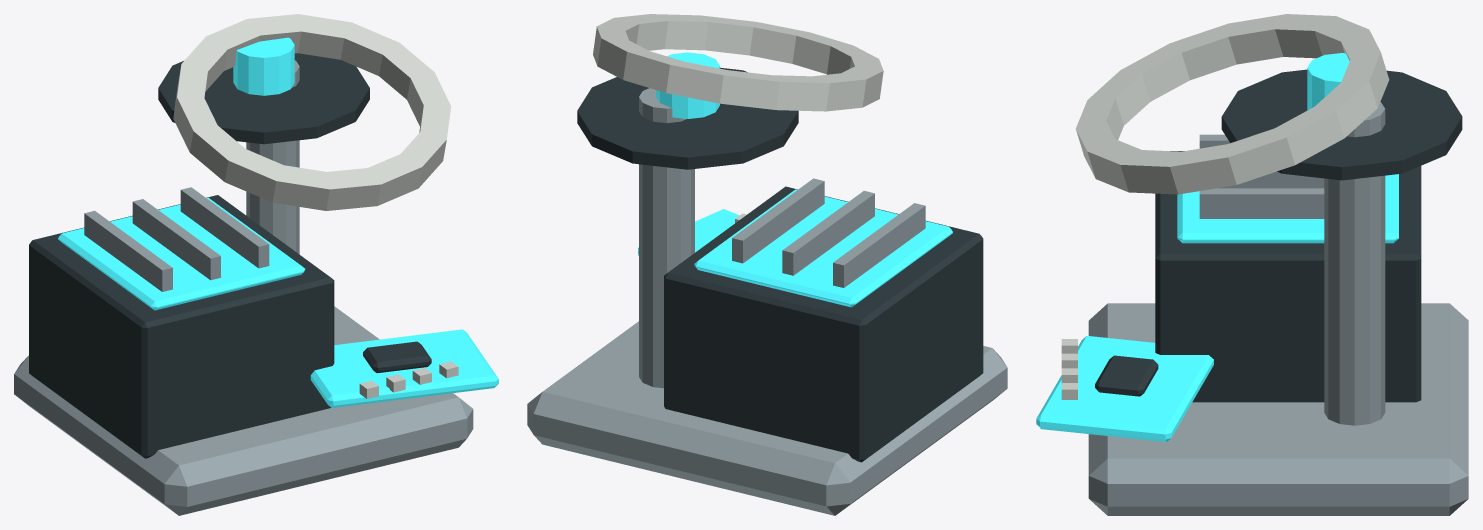
Rendered from electronics_1.glb.
3 renders of one model, left to right at view 1: azimuth 30°, elevation 25°; view 2: azimuth 150°, elevation 25°; view 3: azimuth 270°, elevation 25°, orthographic. The views are drawn at different scales.
Parts seen in each view (by area): view 1: electronics_1; view 2: electronics_1; view 3: electronics_1.
Part boxes in pixels (x1,y1,x2,y2): electronics_1: (14,14,498,515); electronics_1: (527,14,1007,515); electronics_1: (1036,14,1468,515).
Bounding box in the file's own units: 0.6797 × 0.7194 × 0.683.
